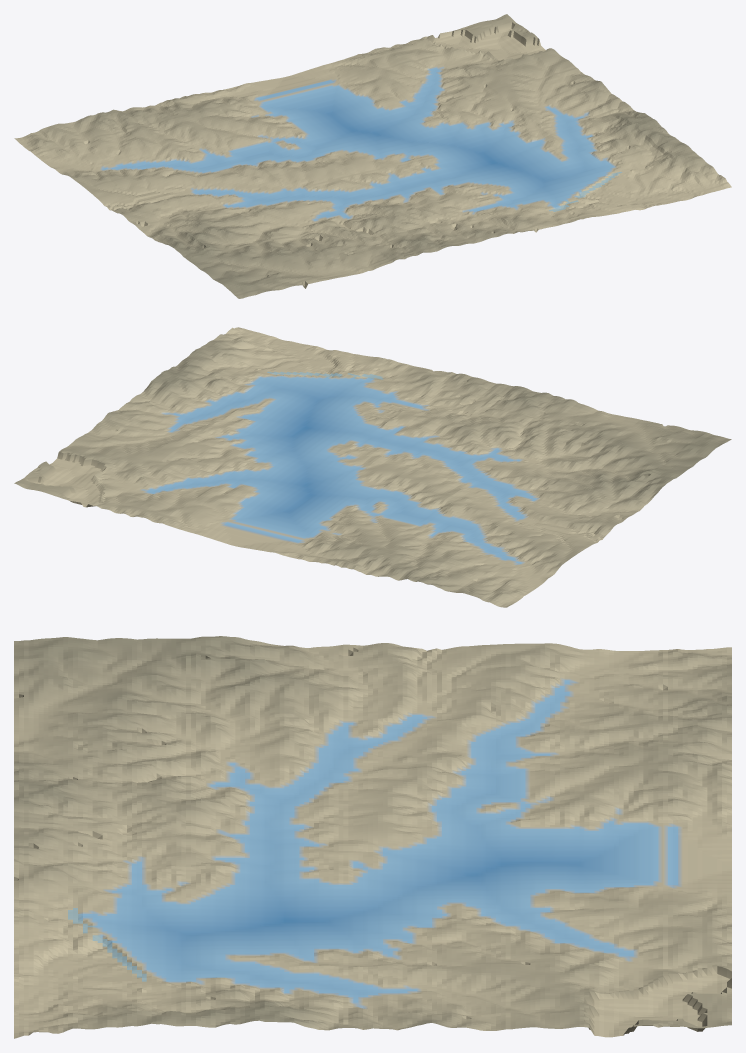
File: lake_conroe_tx.glb
3 views of the same model, one above another, from view 1: azimuth 30°, elevation 25°; view 2: azimuth 150°, elevation 25°; view 3: azimuth 270°, elevation 25° (orthographic). The views are drawn at different scales.
Visible parts, largest first — view 1: terrain, water; view 2: terrain, water; view 3: terrain, water.
Part boxes in pixels (box(x1,y1,x2,y2)): terrain: box(14, 14, 731, 298); water: box(102, 68, 621, 220); terrain: box(14, 327, 731, 607); water: box(147, 371, 535, 563); terrain: box(14, 636, 731, 1038); water: box(68, 680, 677, 1002).
Size of the model in its own units: 14772 by 397 by 11669.
